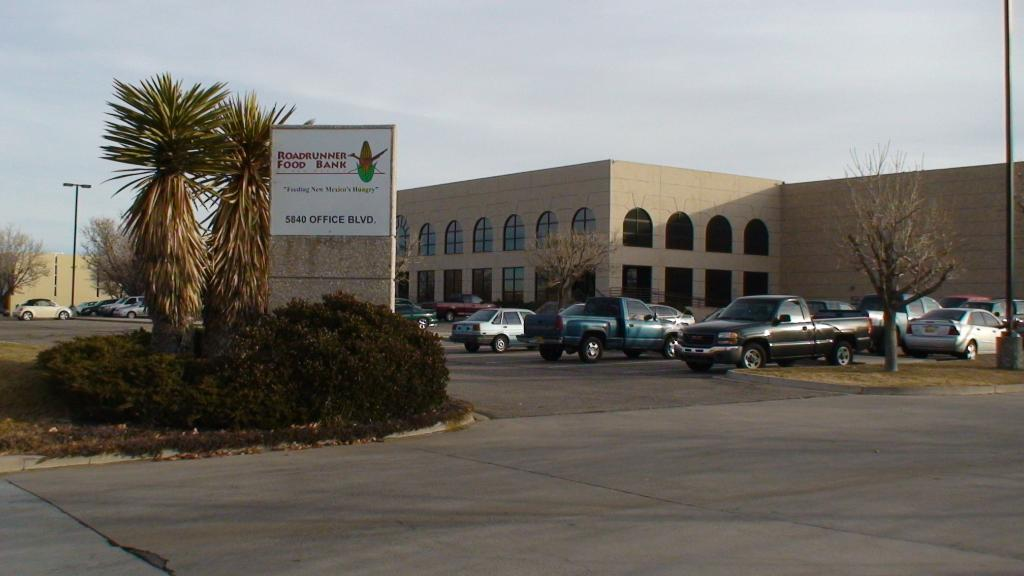car: (675, 284, 884, 388), (526, 285, 680, 373), (896, 299, 1009, 362), (444, 299, 543, 359), (857, 285, 938, 342), (8, 287, 82, 333)
